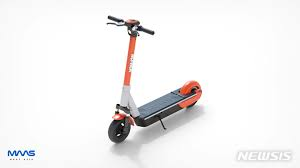kick_board: (106, 15, 202, 143)
kick_handler: (106, 15, 154, 37)
kick_neck: (122, 39, 137, 104)
kick_wheel: (110, 115, 131, 144), (184, 81, 202, 108)
